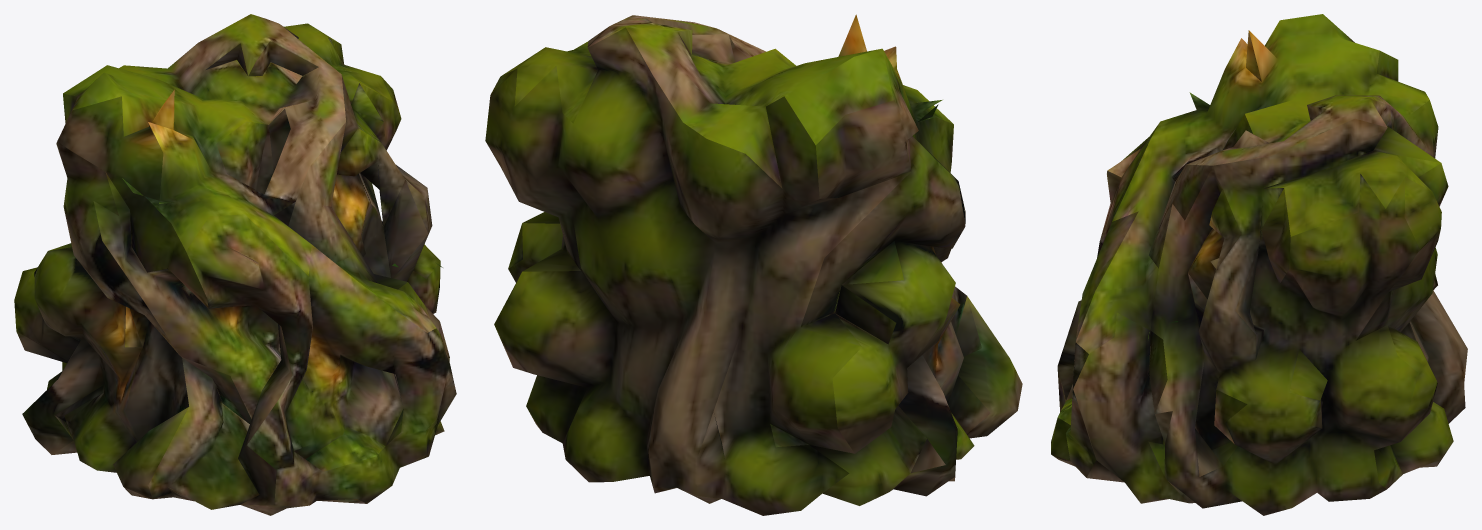
Rendered from d_racines_massif.glb.
3 renders of one model, left to right at view 1: azimuth 30°, elevation 25°; view 2: azimuth 150°, elevation 25°; view 3: azimuth 270°, elevation 25°, orthographic. The views are drawn at different scales.
Visible parts, largest first — view 1: geometry_0; view 2: geometry_0; view 3: geometry_0.
Boxes of the visible parts, x1=… form: geometry_0: x1=14, y1=14, x2=456, y2=515; geometry_0: x1=485, y1=14, x2=1022, y2=515; geometry_0: x1=1051, y1=14, x2=1467, y2=515.
Size of the model in its own units: 0.9868 by 0.9193 by 0.9032.
1 material, 1 textured.
